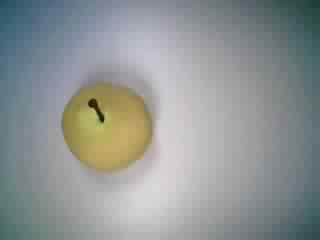pear: (55, 68, 165, 182)
